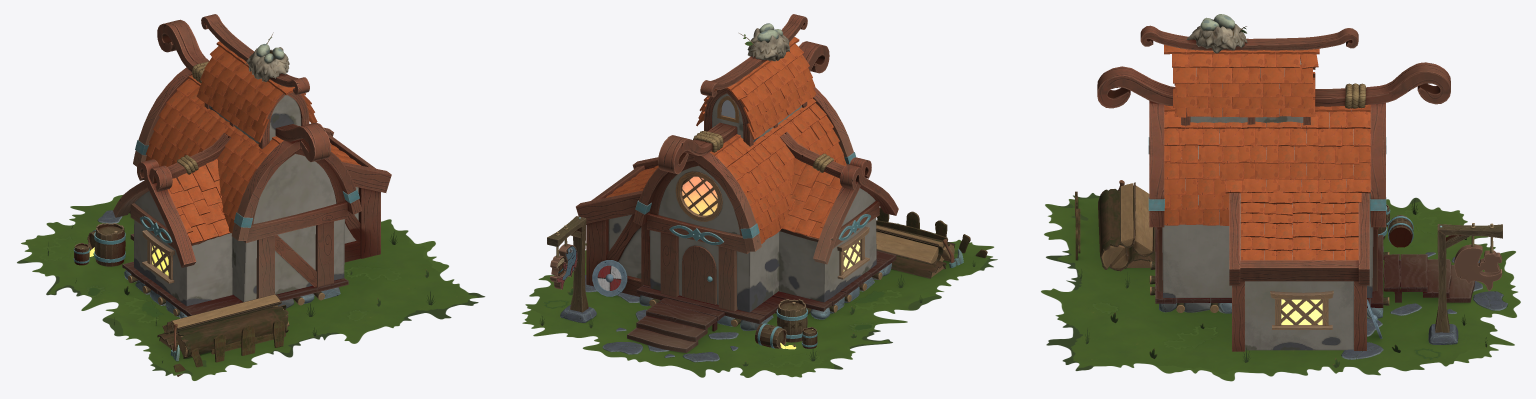
The model's file is first-light-2.glb.
3 views of the same model, side by side, from view 1: azimuth 30°, elevation 25°; view 2: azimuth 150°, elevation 25°; view 3: azimuth 270°, elevation 25° (orthographic). The views are drawn at different scales.
Visible parts, largest first — view 1: LP2, LP1, LP7, LP4, LP20, LP11, LP5, LP19, LP3, LP21, LP34, LP15 (+15 smaller); view 2: LP2, LP7, LP5, LP4, LP20, LP1, LP3, LP19, LP11, LP15, LP8, LP21 (+18 smaller); view 3: LP2, LP20, LP19, LP7, LP21, LP4, LP5, LP1, LP10, LP3, LP29, LP15 (+12 smaller).
Boxes of the visible parts, box(x1,y1,x2,y2) form: LP2: box(17, 195, 485, 381); LP1: box(232, 154, 344, 301); LP7: box(157, 14, 391, 262); LP4: box(134, 95, 358, 306); LP20: box(149, 51, 349, 226); LP11: box(133, 67, 299, 267); LP5: box(129, 134, 375, 316); LP19: box(145, 46, 357, 233); LP3: box(147, 187, 380, 298); LP21: box(146, 57, 360, 219); LP34: box(157, 306, 288, 358); LP15: box(73, 47, 359, 361); LP2: box(522, 223, 997, 377); LP7: box(576, 14, 844, 304); LP5: box(591, 96, 896, 352); LP4: box(608, 93, 876, 302); LP20: box(612, 51, 846, 237); LP1: box(649, 166, 779, 312); LP3: box(586, 219, 864, 331); LP19: box(606, 44, 839, 243); LP11: box(694, 87, 898, 251); LP15: box(556, 28, 963, 349); LP8: box(636, 160, 886, 341); LP21: box(622, 62, 844, 239); LP2: box(1040, 193, 1520, 381); LP20: box(1164, 50, 1370, 260); LP19: box(1164, 50, 1370, 260); LP7: box(1097, 25, 1450, 285); LP21: box(1170, 51, 1370, 260); LP4: box(1190, 59, 1353, 350); LP5: box(1155, 227, 1474, 329); LP1: box(1162, 109, 1373, 297); LP10: box(1149, 87, 1385, 227); LP3: box(1157, 229, 1401, 351); LP29: box(1281, 206, 1502, 324); LP15: box(1148, 19, 1493, 338).
Bounding box in the file's own units: 0.1713 × 0.1138 × 0.1796.
8 materials, 8 textured.
